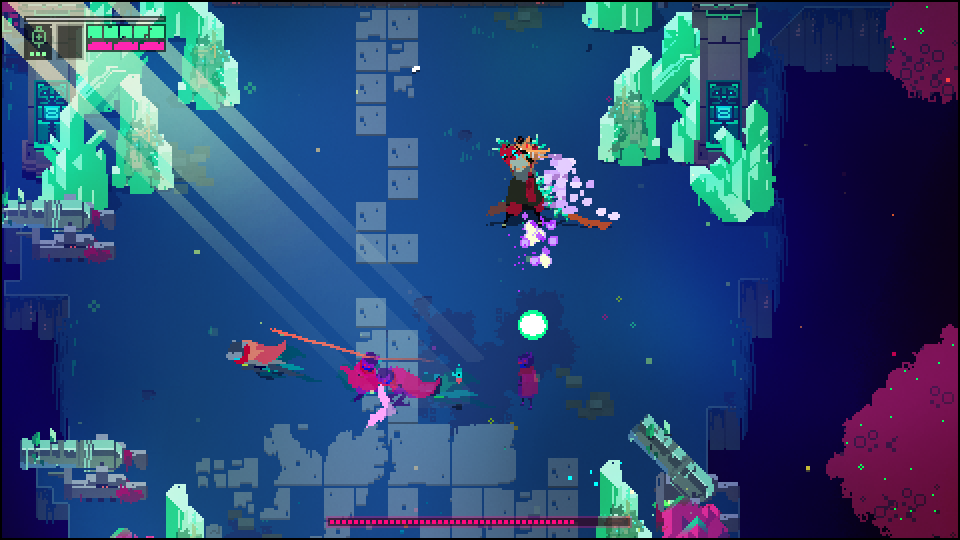hanged_man: (489, 134, 580, 230)
hanged_shot: (515, 306, 552, 345)
player: (224, 336, 306, 380)
